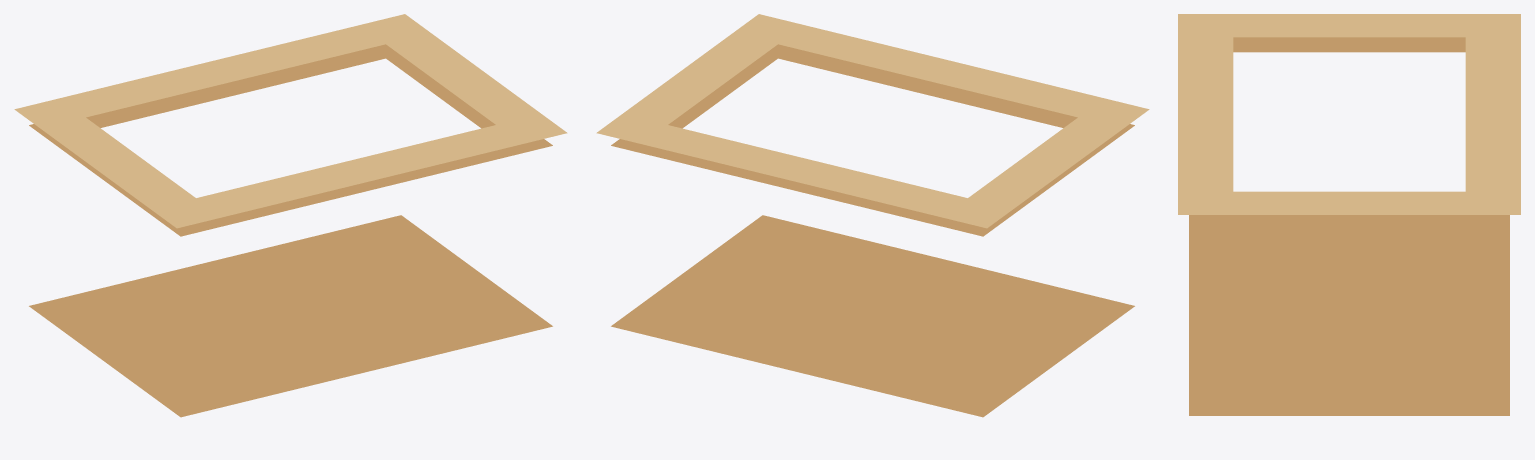
The picture shows the model from 3 angles, left to right: view 1: azimuth 30°, elevation 25°; view 2: azimuth 150°, elevation 25°; view 3: azimuth 270°, elevation 25°; orthographic projection. The views are drawn at different scales.
Parts seen in each view (by area): view 1: Box panel 00, Box panel 05, Box panel 06, Box panel 07, Box panel 08, Box panel 01, Box panel 02, Box panel 04, Box panel 03; view 2: Box panel 00, Box panel 06, Box panel 05, Box panel 07, Box panel 08, Box panel 02, Box panel 01, Box panel 04, Box panel 03; view 3: Box panel 00, Box panel 05, Box panel 06, Box panel 07, Box panel 08, Box panel 03, Box panel 04, Box panel 01, Box panel 02.
Part boxes in pixels (left/top/right/bottom): Box panel 00: left=29, top=215, right=552, bottom=417; Box panel 05: left=14, top=14, right=430, bottom=128; Box panel 06: left=151, top=114, right=567, bottom=228; Box panel 07: left=40, top=117, right=195, bottom=208; Box panel 08: left=386, top=33, right=540, bottom=124; Box panel 01: left=29, top=44, right=399, bottom=140; Box panel 02: left=160, top=139, right=552, bottom=236; Box panel 04: left=386, top=55, right=495, bottom=128; Box panel 03: left=50, top=139, right=164, bottom=220; Box panel 00: left=611, top=215, right=1134, bottom=417; Box panel 06: left=733, top=14, right=1149, bottom=128; Box panel 05: left=596, top=114, right=1012, bottom=228; Box panel 07: left=968, top=117, right=1123, bottom=208; Box panel 08: left=623, top=33, right=777, bottom=124; Box panel 02: left=764, top=44, right=1134, bottom=140; Box panel 01: left=611, top=139, right=1003, bottom=236; Box panel 04: left=668, top=55, right=777, bottom=128; Box panel 03: left=999, top=139, right=1113, bottom=220; Box panel 00: left=1189, top=225, right=1509, bottom=415; Box panel 05: left=1465, top=14, right=1520, bottom=214; Box panel 06: left=1178, top=14, right=1233, bottom=214; Box panel 07: left=1233, top=14, right=1465, bottom=37; Box panel 08: left=1233, top=191, right=1465, bottom=214; Box panel 03: left=1233, top=37, right=1465, bottom=52; Box panel 04: left=1233, top=215, right=1465, bottom=225; Box panel 01: left=1465, top=215, right=1509, bottom=225; Box panel 02: left=1189, top=215, right=1233, bottom=225.
Size of the model in its own units: 1.72 by 0.94 by 1.24.
